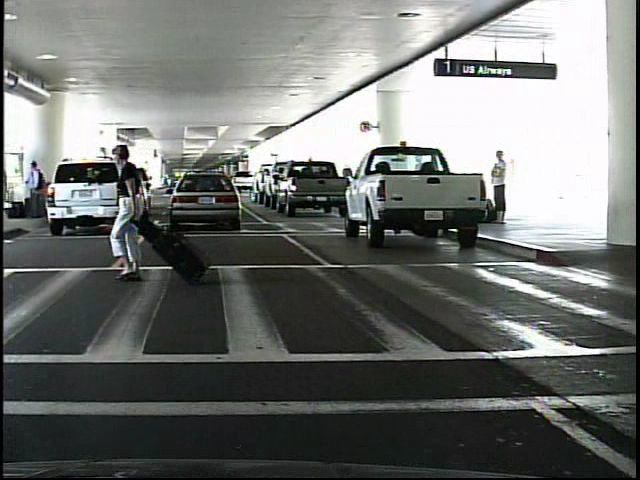person: (107, 146, 171, 286), (481, 152, 518, 225), (26, 158, 45, 220)
